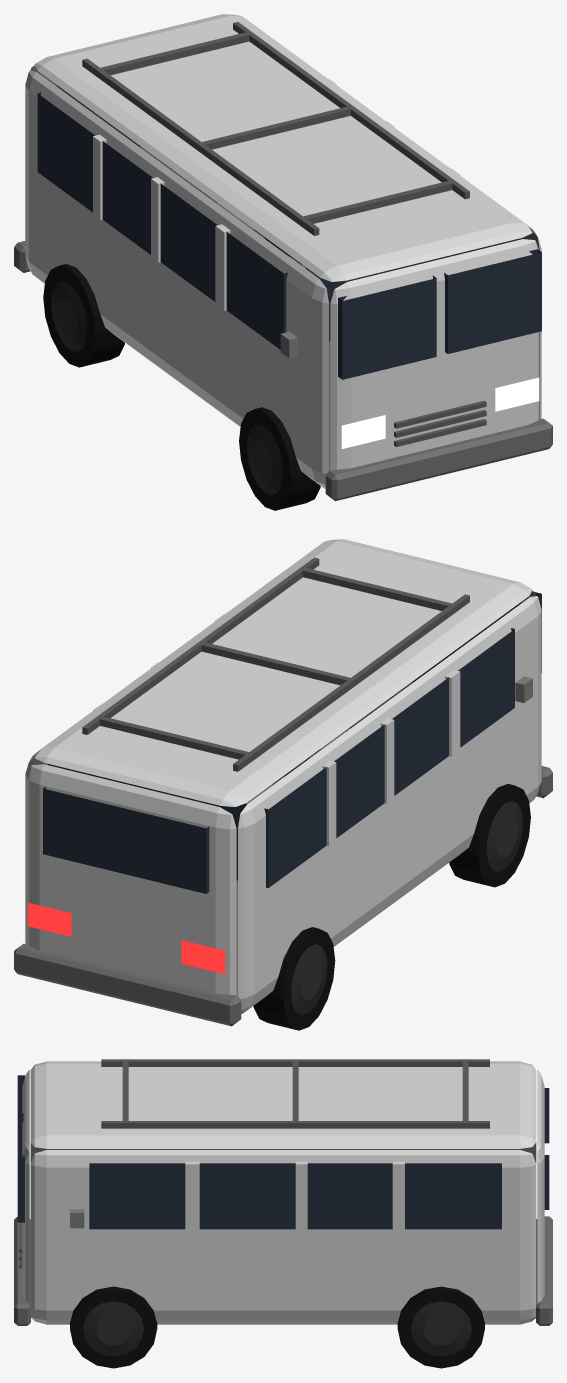
Rendered from van_kombi.glb.
The picture shows the model from 3 angles, top to bottom: view 1: azimuth 30°, elevation 25°; view 2: azimuth 150°, elevation 25°; view 3: azimuth 270°, elevation 25°; orthographic projection. The views are drawn at different scales.
Visible parts, largest first — view 1: Body, WheelFL, WheelRL; view 2: Body, WheelRL, WheelFL; view 3: Body, WheelRR, WheelFR.
Boxes of the visible parts, <box> form: Body: <box>14,14,552,501</box>; WheelFL: <box>239,407,320,510</box>; WheelRL: <box>43,264,124,367</box>; Body: <box>14,539,552,1026</box>; WheelRL: <box>253,927,335,1030</box>; WheelFL: <box>449,784,530,887</box>; Body: <box>14,1059,552,1325</box>; WheelRR: <box>397,1286,484,1368</box>; WheelFR: <box>70,1286,157,1368</box>.
Size of the model in its own units: 1.95 by 2.08 by 4.44.
